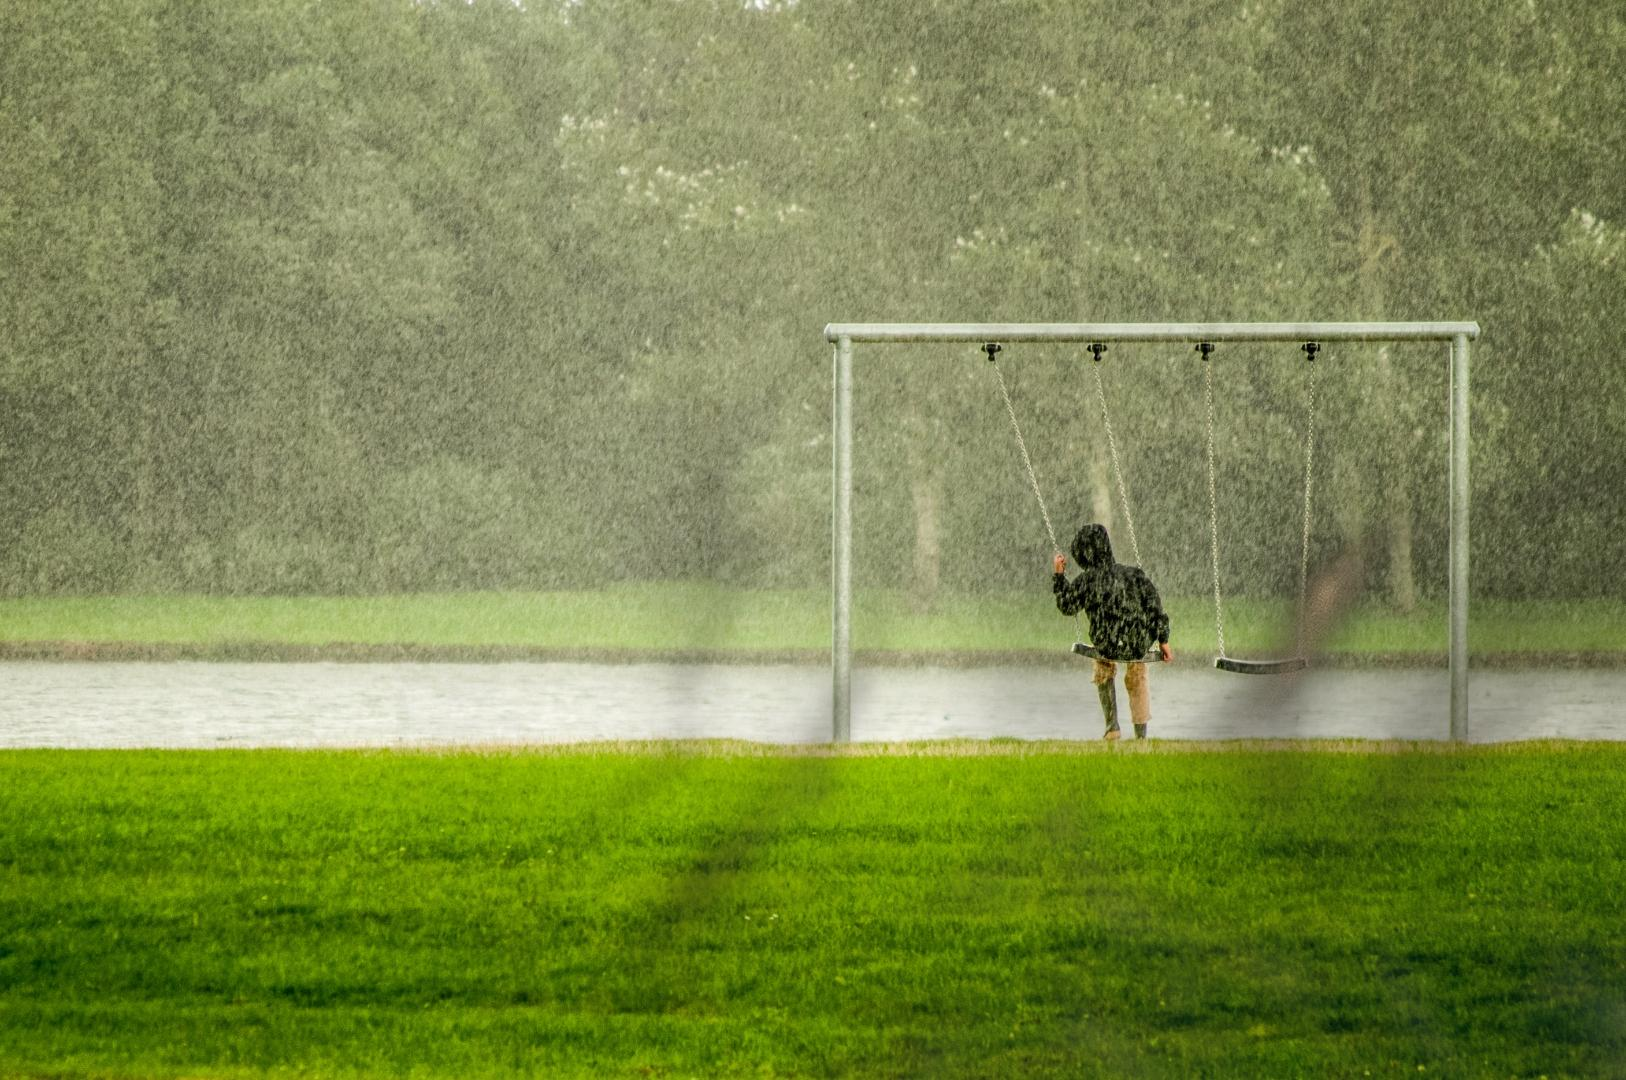trashbox-cardboard: (397, 287, 1626, 1080)
